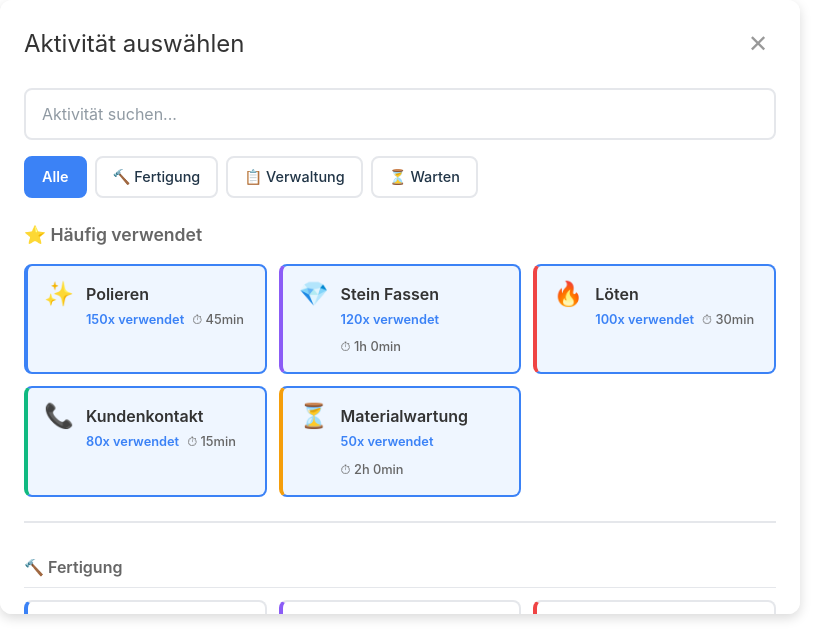
Scenario: ActivityPicker › Search Functionality › should filter activities by search query
Expected: the text "Polieren" is shown, [86,284,149,304]
Type "Polieren" into the field with placeholder "Aktivität suchen..." at (400, 114), box [24,88,776,140]
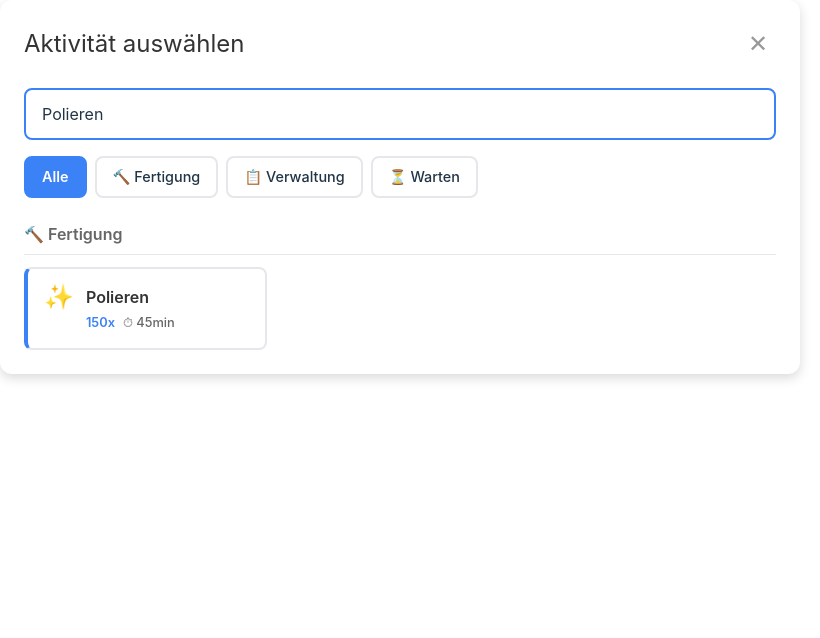
Expected: the text "Polieren" is shown, [86,287,149,307]
Expected: the button "Löten" is gone
